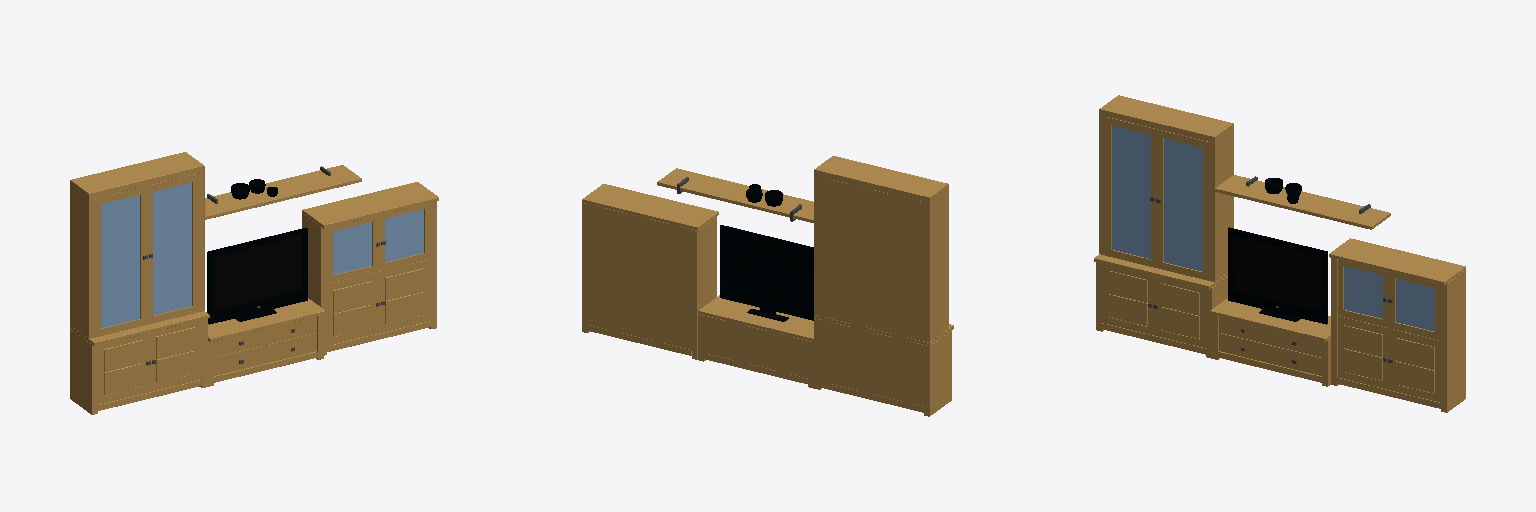
3 renders of one model, left to right at view 1: azimuth 30°, elevation 25°; view 2: azimuth 150°, elevation 25°; view 3: azimuth 330°, elevation 25°, orthographic.
Parts seen in each view (by area): view 1: big_sideboard_Cube, sideboard_Cube.002, tv_Cube.018, closet_Cube.001, shelf_Cube.003; view 2: big_sideboard_Cube, sideboard_Cube.002, tv_Cube.018, closet_Cube.001, shelf_Cube.003; view 3: big_sideboard_Cube, sideboard_Cube.002, tv_Cube.018, closet_Cube.001, shelf_Cube.003.
Boxes of the visible parts, <box> form: big_sideboard_Cube: <box>70,152,209,414</box>; sideboard_Cube.002: <box>302,182,438,355</box>; tv_Cube.018: <box>207,228,307,324</box>; closet_Cube.001: <box>208,298,325,386</box>; shelf_Cube.003: <box>205,165,361,219</box>; big_sideboard_Cube: <box>814,156,953,416</box>; sideboard_Cube.002: <box>582,184,718,359</box>; tv_Cube.018: <box>720,225,813,321</box>; closet_Cube.001: <box>698,295,813,388</box>; shelf_Cube.003: <box>657,168,813,222</box>; big_sideboard_Cube: <box>1094,95,1233,358</box>; sideboard_Cube.002: <box>1329,238,1465,412</box>; tv_Cube.018: <box>1228,227,1327,324</box>; closet_Cube.001: <box>1210,298,1330,386</box>; shelf_Cube.003: <box>1215,175,1390,229</box>.
Bounding box in the file's own units: 331 × 199 × 40.37.
8 materials, 1 textured.